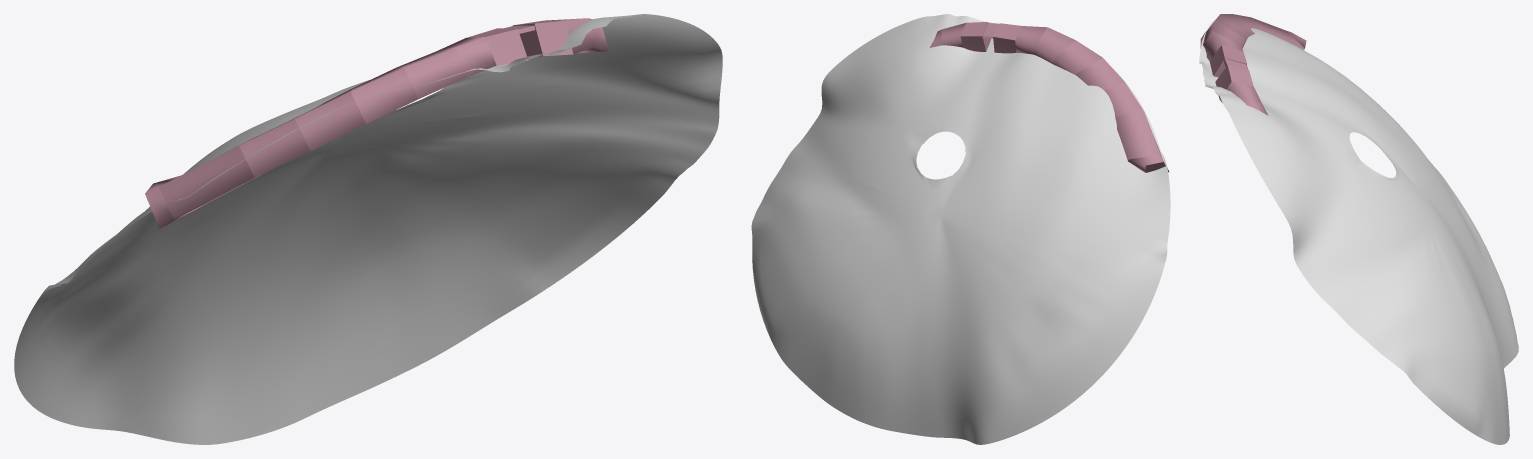
Rendered from GroundBounce.fbx.
The picture shows the model from 3 angles, left to right: view 1: azimuth 30°, elevation 25°; view 2: azimuth 150°, elevation 25°; view 3: azimuth 270°, elevation 25°; orthographic projection. The views are drawn at different scales.
Visible parts, largest first — view 1: Sphere, Pic.001; view 2: Sphere, Pic.001; view 3: Sphere, Pic.001.
Boxes of the visible parts, x1,y1,x2,y2 form: Sphere: (14,14,722,444); Pic.001: (145,18,608,228); Sphere: (751,14,1170,444); Pic.001: (929,22,1169,172); Sphere: (1199,20,1518,444); Pic.001: (1200,14,1306,115).
Bounding box in the file's own units: 127 × 98.73 × 76.56.
